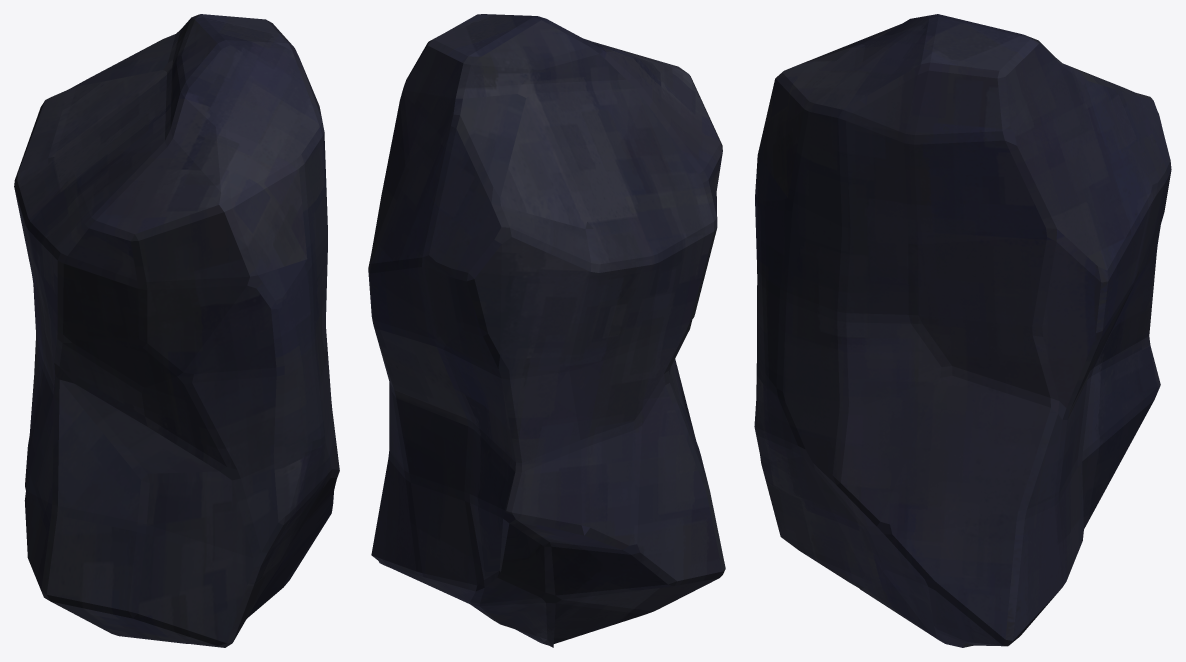
The model's file is rockagain2.fbx.
The picture shows the model from 3 angles, left to right: view 1: azimuth 30°, elevation 25°; view 2: azimuth 150°, elevation 25°; view 3: azimuth 270°, elevation 25°; orthographic projection. The views are drawn at different scales.
Visible parts, largest first — view 1: Cube.054; view 2: Cube.054; view 3: Cube.054.
Part boxes in pixels (<box>): Cube.054: <box>14,14,339,647</box>; Cube.054: <box>368,14,725,647</box>; Cube.054: <box>754,14,1171,647</box>.
Bounding box in the file's own units: 632 × 1168 × 699.
